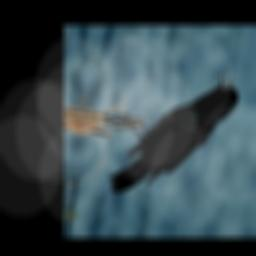Crow: (101, 59, 243, 207)
